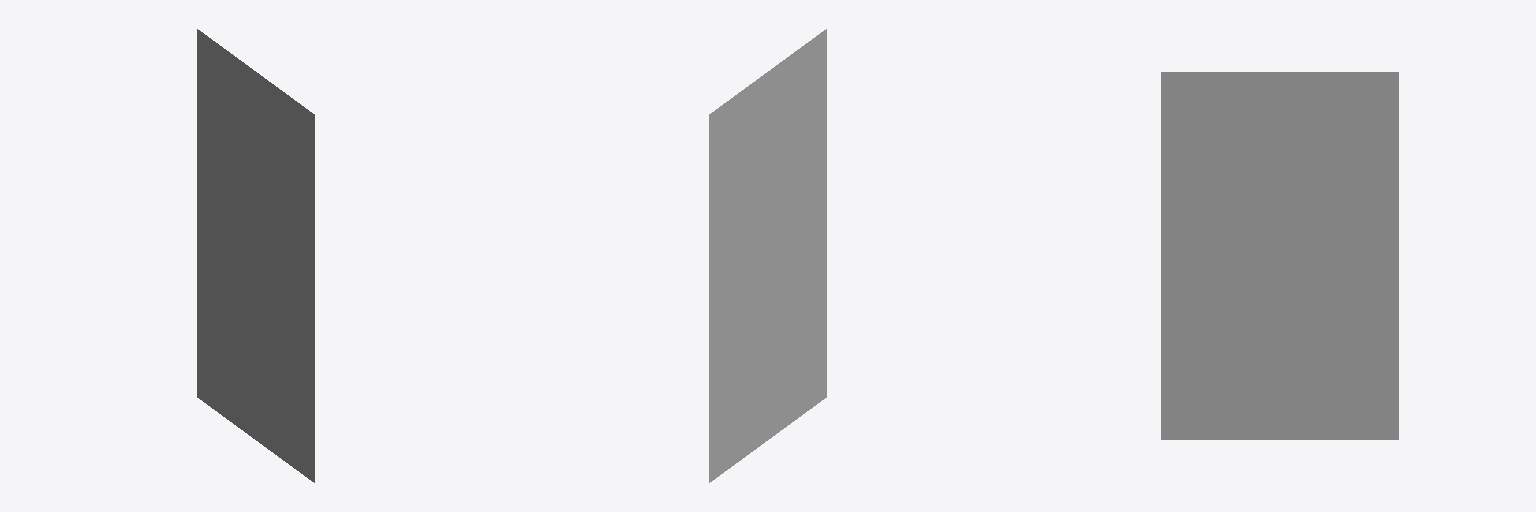
The model's file is MirrorInner.obj.
3 views of the same model, side by side, from view 1: azimuth 30°, elevation 25°; view 2: azimuth 150°, elevation 25°; view 3: azimuth 270°, elevation 25° (orthographic).
Visible parts, largest first — view 1: mirrors; view 2: mirrors; view 3: mirrors.
Boxes of the visible parts, x1=… form: mirrors: x1=197, y1=29, x2=314, y2=482; mirrors: x1=709, y1=29, x2=826, y2=482; mirrors: x1=1161, y1=72, x2=1398, y2=439.
Size of the model in its own units: 0 by 16.98 by 9.91.